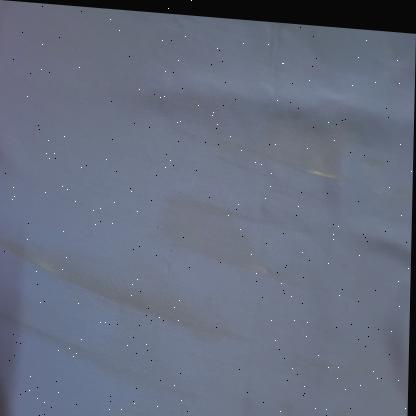spot: (0, 227, 256, 342), (168, 184, 320, 295), (215, 93, 355, 184)
